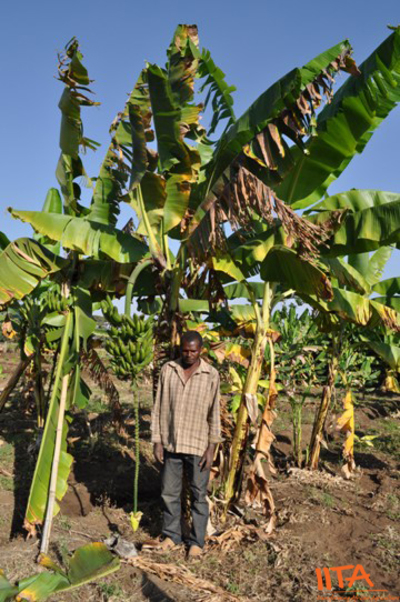bananaHand: (105, 312, 164, 379)
